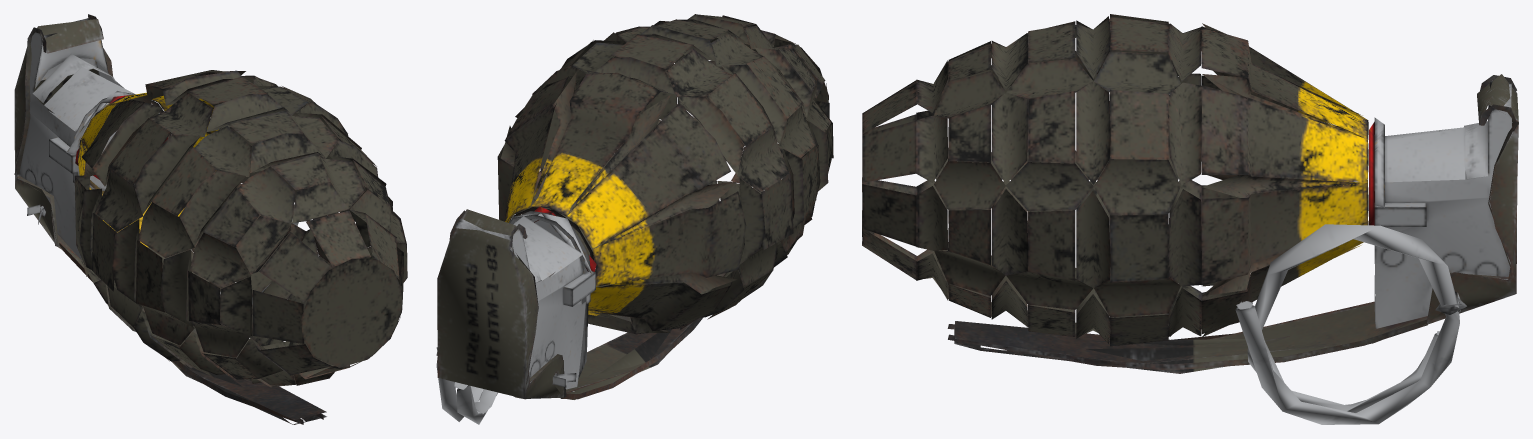
The model's file is frag_grenade.glb.
3 renders of one model, left to right at view 1: azimuth 30°, elevation 25°; view 2: azimuth 150°, elevation 25°; view 3: azimuth 270°, elevation 25°, orthographic. The views are drawn at different scales.
Visible parts, largest first — view 1: frag_grenade; view 2: frag_grenade; view 3: frag_grenade.
Part boxes in pixels (x1,y1,x2,y2): frag_grenade: (14,14,407,424); frag_grenade: (436,14,833,424); frag_grenade: (862,14,1518,424).
Size of the model in its own units: 0.0551 by 0.0643 by 0.1095.
1 material, 1 textured.
